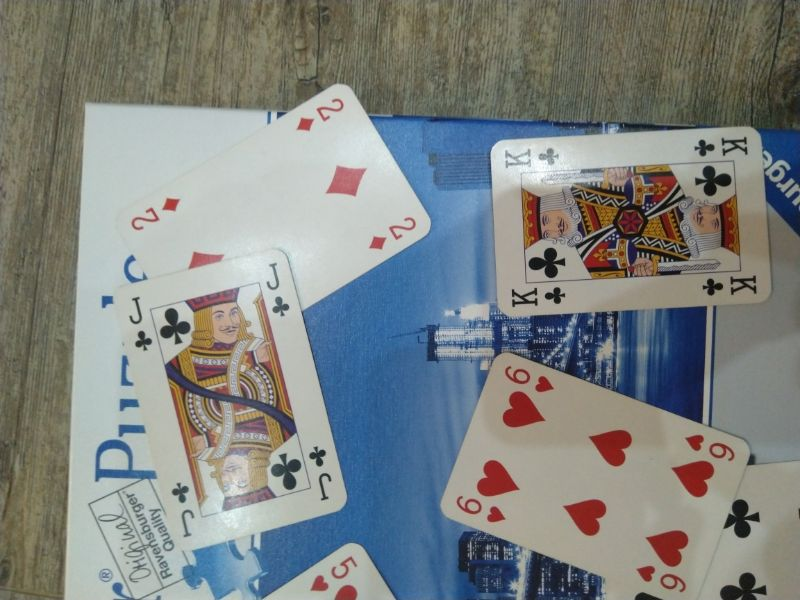2d: (291, 90, 351, 139), (125, 190, 187, 237), (366, 212, 420, 258)
5h: (304, 548, 366, 596)
6h: (496, 355, 560, 397), (680, 425, 741, 467), (628, 557, 692, 597), (452, 486, 511, 529)
Jc: (255, 256, 303, 320), (165, 474, 206, 547), (301, 442, 347, 507), (120, 290, 161, 355)
Kc: (498, 139, 567, 175), (504, 280, 575, 314), (698, 266, 765, 302), (688, 129, 756, 164)
